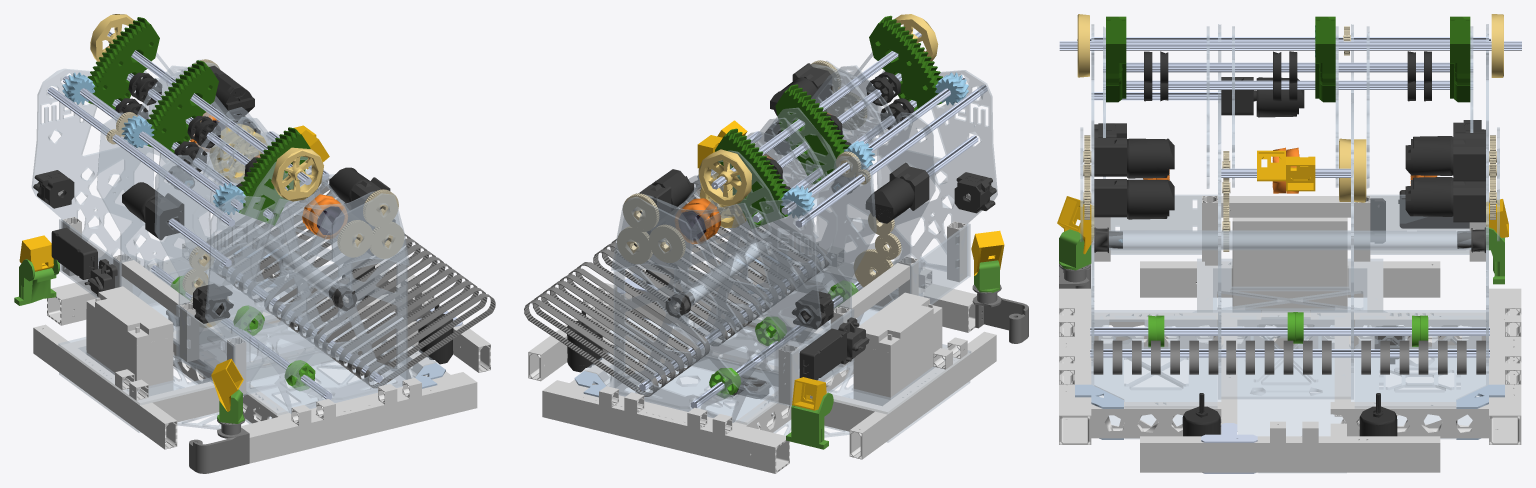
The model's file is 4930-body.glb.
3 renders of one model, left to right at view 1: azimuth 30°, elevation 25°; view 2: azimuth 150°, elevation 25°; view 3: azimuth 270°, elevation 25°, orthographic. The views are drawn at different scales.
Visible parts, largest first — view 1: Part 1 (×5), MAXTube, 1x1 (REV-21-2160), Hopper Floor 120T HTD Belt, am-churro 500 churro tube, 2" Compliant Wheel (60A, 3/4" Wide, 1/2" Hex Stretch Bore), MAXPlanetary (Block), 60t Aluminum Spur Gear (20 DP, 1/2" Hex Bore), 4" Brass Flywheel (1/2" Triangle Bore), 2 Angle Mout Base, 2 Angle Mout Pivot, Document (×2), Robot Radio (VH-109) (+3 smaller); view 2: Part 1 (×5), MAXTube, 1x1 (REV-21-2160), Hopper Floor 120T HTD Belt, am-churro 500 churro tube, 60t Aluminum Spur Gear (20 DP, 1/2" Hex Bore), 2" Compliant Wheel (60A, 3/4" Wide, 1/2" Hex Stretch Bore), MAXPlanetary (Block), 4" Brass Flywheel (1/2" Triangle Bore), 2 Angle Mout Pivot, 2 Angle Mout Base, Robot Radio (VH-109), 2" Compliant Wheel (35A, 3/4" Wide, 1/2" Hex Stretch Bore) (+3 smaller); view 3: Part 1 (×4), MAXTube, 1x1 (REV-21-2160), am-churro 500 churro tube, 2" Compliant Wheel (60A, 3/4" Wide, 1/2" Hex Stretch Bore), MAXPlanetary (Block), Hopper Floor 120T HTD Belt, 4" Brass Flywheel (1/2" Triangle Bore), 60t Aluminum Spur Gear (20 DP, 1/2" Hex Bore), 2 Angle Mout Pivot, 2" Compliant Wheel (35A, 3/4" Wide, 1/2" Hex Stretch Bore), TTB-R-001, 120A Main Breaker (+3 smaller).
Part boxes in pixels (bbox=[...]): Part 1 (×5): bbox=[19, 17, 445, 432]; MAXTube, 1x1 (REV-21-2160): bbox=[33, 216, 490, 463]; Hopper Floor 120T HTD Belt: bbox=[200, 172, 495, 388]; am-churro 500 churro tube: bbox=[47, 31, 462, 399]; 2" Compliant Wheel (60A, 3/4" Wide, 1/2" Hex Stretch Bore): bbox=[115, 72, 453, 364]; MAXPlanetary (Block): bbox=[33, 65, 395, 323]; 60t Aluminum Spur Gear (20 DP, 1/2" Hex Bore): bbox=[106, 59, 404, 327]; 4" Brass Flywheel (1/2" Triangle Bore): bbox=[90, 14, 323, 201]; 2 Angle Mout Base: bbox=[189, 417, 249, 473]; 2 Angle Mout Pivot: bbox=[14, 259, 244, 423]; Document (×2): bbox=[189, 112, 347, 239]; Robot Radio (VH-109): bbox=[51, 227, 97, 279]; Part 1 (×5): bbox=[574, 15, 1004, 442]; MAXTube, 1x1 (REV-21-2160): bbox=[528, 221, 996, 473]; Hopper Floor 120T HTD Belt: bbox=[524, 175, 829, 396]; am-churro 500 churro tube: bbox=[617, 32, 987, 408]; 60t Aluminum Spur Gear (20 DP, 1/2" Hex Bore): bbox=[617, 60, 901, 287]; 2" Compliant Wheel (60A, 3/4" Wide, 1/2" Hex Stretch Bore): bbox=[567, 71, 914, 372]; MAXPlanetary (Block): bbox=[634, 63, 996, 329]; 4" Brass Flywheel (1/2" Triangle Bore): bbox=[698, 14, 938, 227]; 2 Angle Mout Pivot: bbox=[786, 260, 999, 449]; 2 Angle Mout Base: bbox=[972, 284, 1028, 343]; Robot Radio (VH-109): bbox=[799, 328, 846, 380]; 2" Compliant Wheel (35A, 3/4" Wide, 1/2" Hex Stretch Bore): bbox=[709, 280, 858, 398]; Part 1 (×4): bbox=[1057, 16, 1508, 473]; MAXTube, 1x1 (REV-21-2160): bbox=[1059, 196, 1521, 472]; am-churro 500 churro tube: bbox=[1059, 37, 1521, 473]; 2" Compliant Wheel (60A, 3/4" Wide, 1/2" Hex Stretch Bore): bbox=[1127, 51, 1453, 436]; MAXPlanetary (Block): bbox=[1094, 77, 1485, 222]; Hopper Floor 120T HTD Belt: bbox=[1093, 340, 1485, 374]; 4" Brass Flywheel (1/2" Triangle Bore): bbox=[1077, 14, 1503, 202]; 60t Aluminum Spur Gear (20 DP, 1/2" Hex Bore): bbox=[1083, 26, 1496, 251]; 2 Angle Mout Pivot: bbox=[1059, 227, 1504, 284]; 2" Compliant Wheel (35A, 3/4" Wide, 1/2" Hex Stretch Bore): bbox=[1148, 312, 1428, 347]; TTB-R-001: bbox=[1094, 227, 1485, 252]; 120A Main Breaker: bbox=[1370, 198, 1405, 364].
Bounding box in the file's own units: 0.6731 × 0.5942 × 0.7279.
